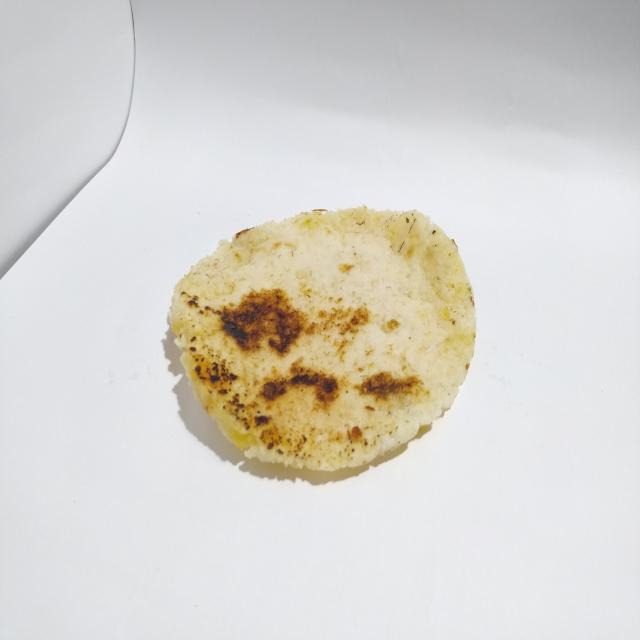Food: (160, 196, 485, 480)
